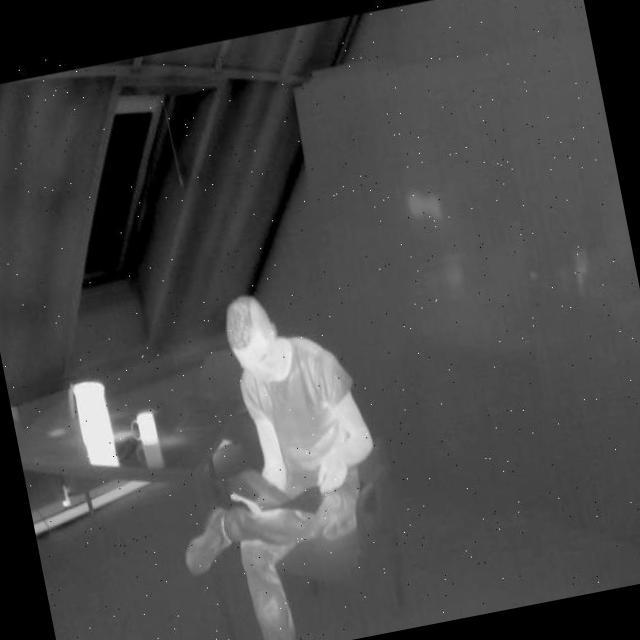person: (131, 271, 412, 640)
